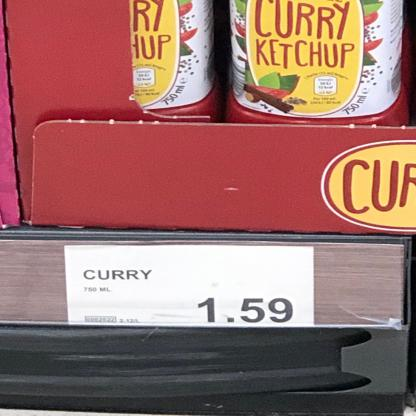prtg: (65, 247, 316, 327)
